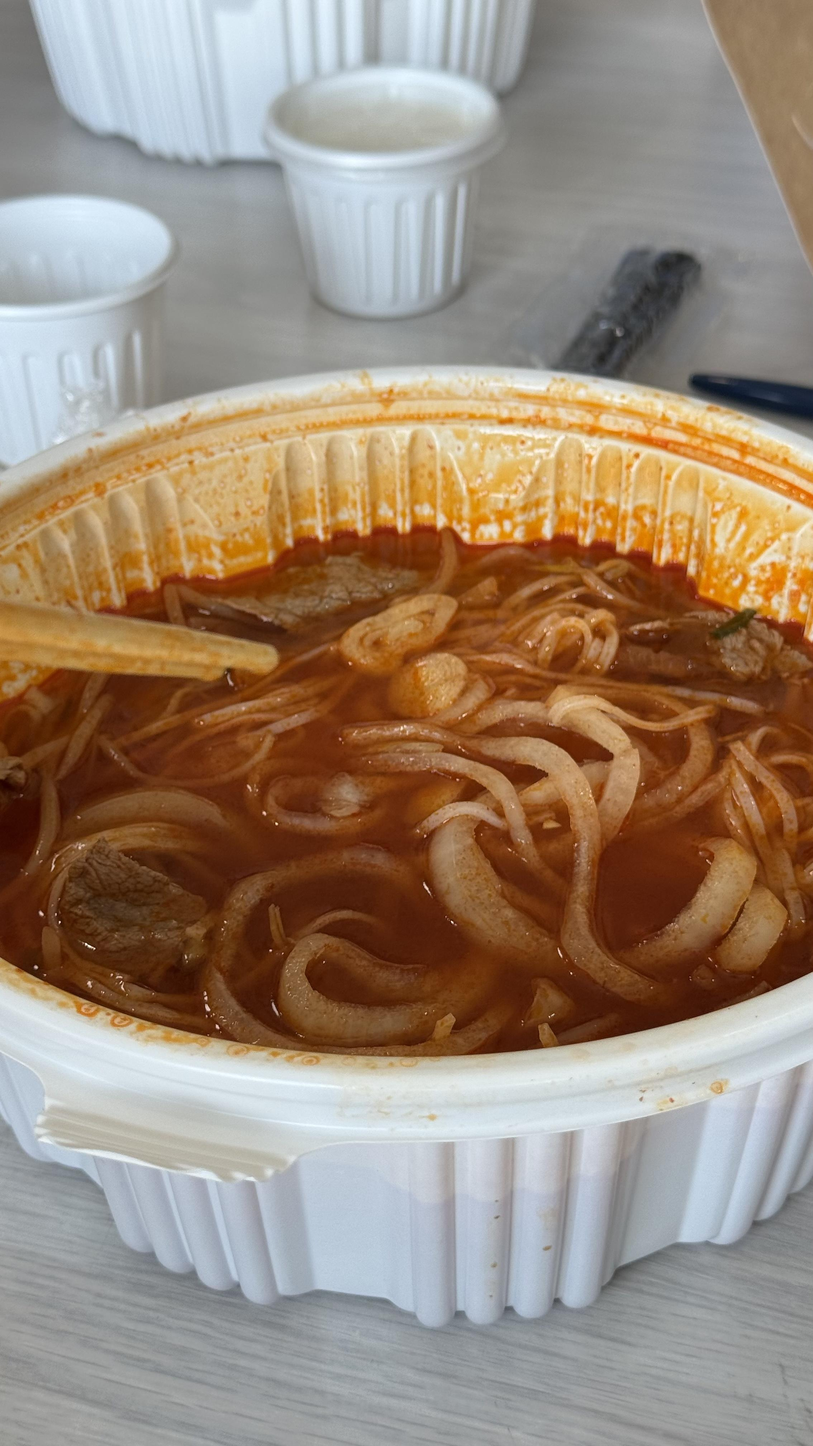Lunch Box: (0, 374, 813, 1325)
cup: (266, 67, 504, 318), (0, 195, 177, 465)
